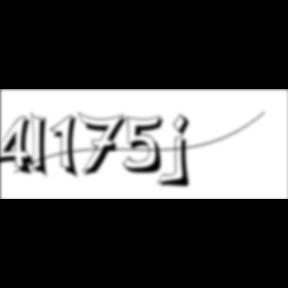1: (48, 114, 83, 182)
4: (0, 115, 40, 179)
5: (122, 114, 170, 176)
7: (78, 111, 132, 179)
I: (31, 110, 55, 182)
j: (170, 113, 196, 191)
